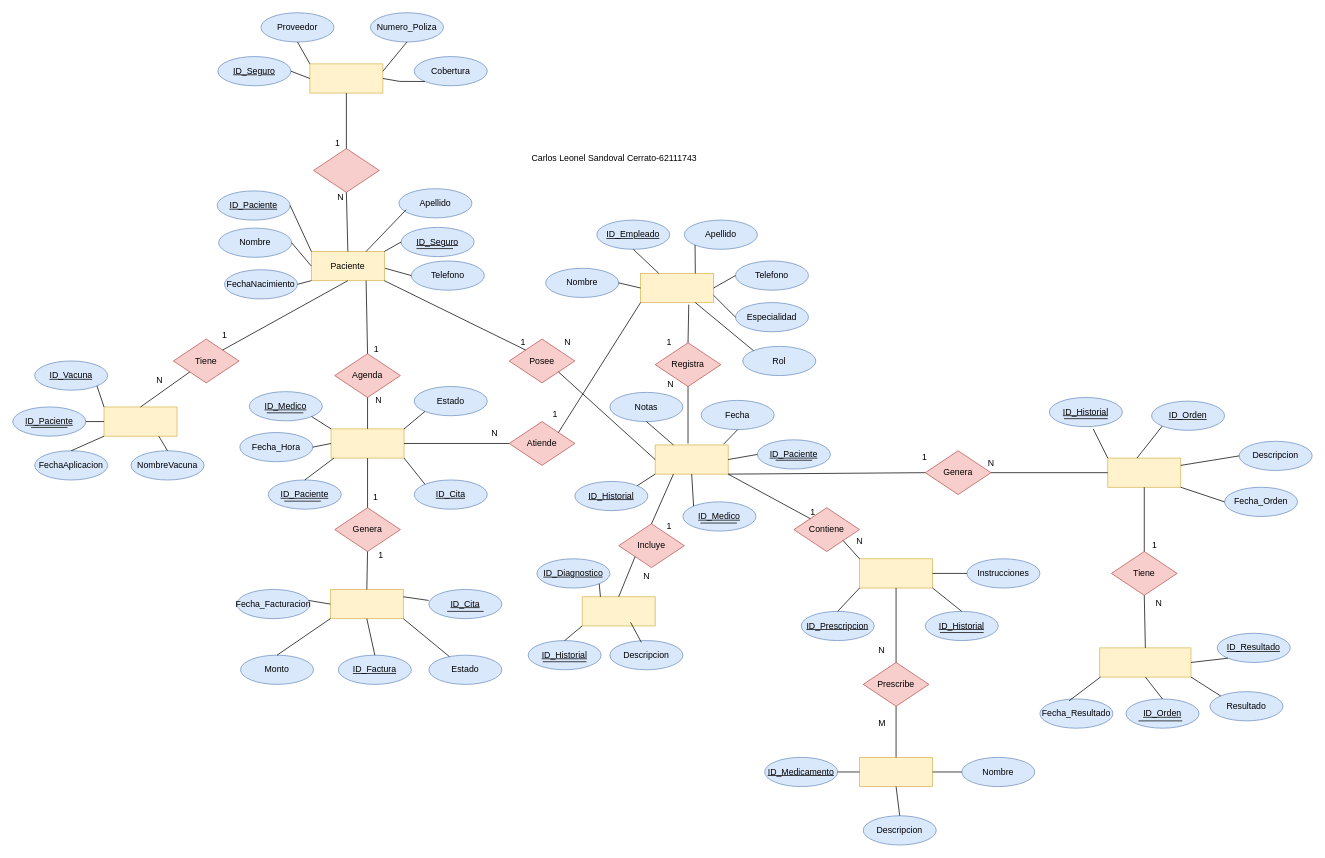
The diagram is 1325 pixels wide and 858 high, and some of its shapes have lost their labels. Here are the shapes that lost their labels. From the top down, the centre of each, then its label:
point 346,78: Seguro_Medico
point 346,170: Esta Asegurado
point 677,288: Empleado
point 140,421: Vacunacion
point 367,443: Cita
point 691,459: Historial_Medico
point 1144,472: Orden_Laboratorio
point 896,573: Prescripcion
point 366,604: Facturacion
point 618,611: Diagnostico
point 1145,662: Resultado_Laboratorio
point 896,772: Medicamento
